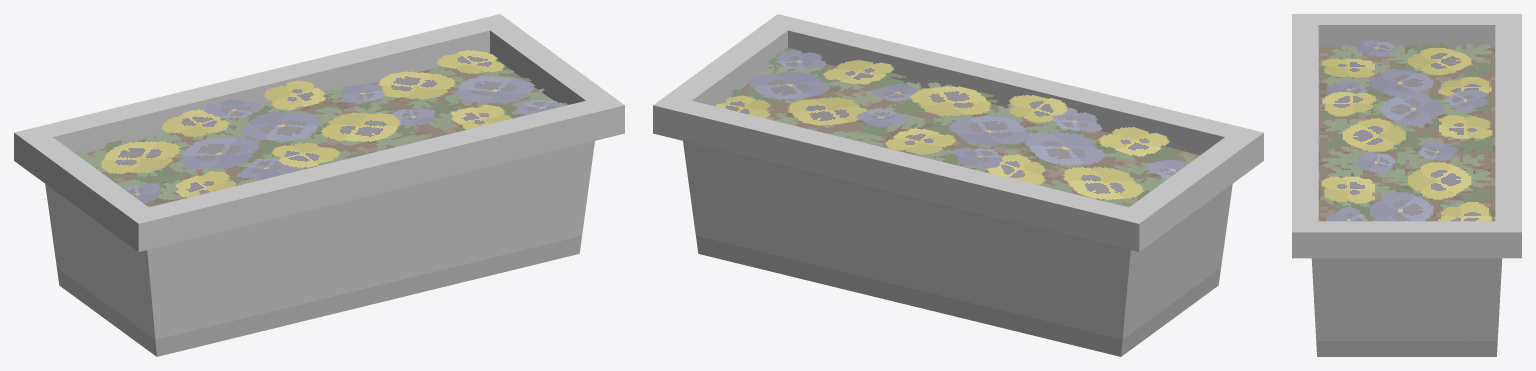
File: 00ef_Pansies.glb
The picture shows the model from 3 angles, left to right: view 1: azimuth 30°, elevation 25°; view 2: azimuth 150°, elevation 25°; view 3: azimuth 270°, elevation 25°; orthographic projection. The views are drawn at different scales.
Visible parts, largest first — view 1: part_0; view 2: part_0; view 3: part_0.
Boxes of the visible parts, x1,y1,x2,y2 form: part_0: [14, 14, 624, 356]; part_0: [653, 14, 1263, 356]; part_0: [1292, 14, 1521, 356].
Size of the model in its own units: 0.54 by 0.16 by 0.24.
Materials: 1 (1 with a texture image).
